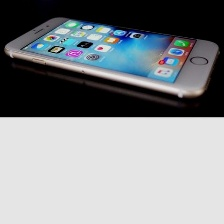phone: (0, 12, 224, 102)
